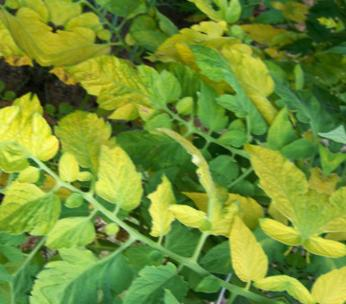Tomato leaf yellow virus: (169, 27, 298, 128), (55, 37, 183, 138), (227, 143, 328, 245), (68, 131, 165, 219), (206, 212, 290, 291), (18, 235, 106, 304)
